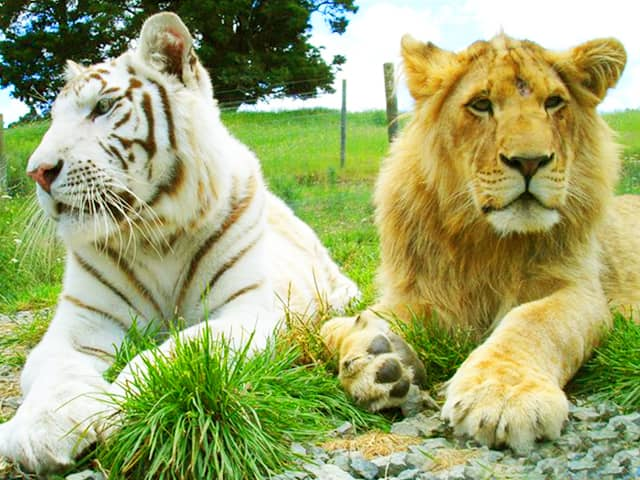lion: (313, 32, 640, 453)
tiger: (6, 12, 367, 480)
